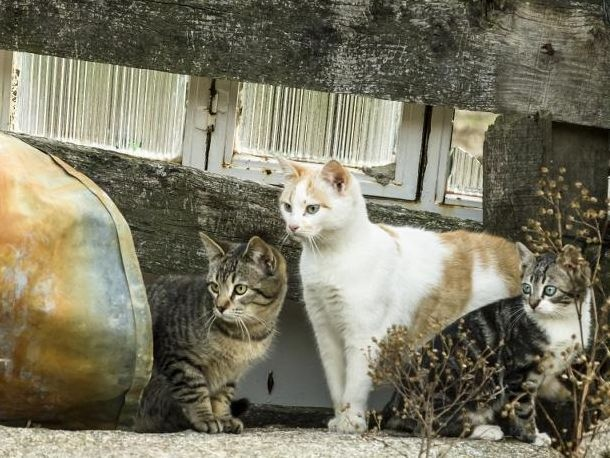cat: (271, 153, 524, 436), (374, 242, 594, 446), (133, 232, 287, 434)
